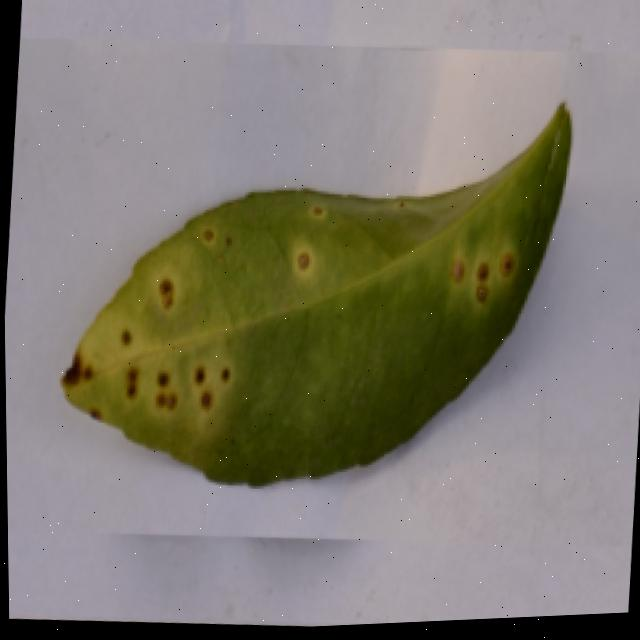canker: (65, 107, 567, 481), (52, 205, 254, 463), (434, 236, 529, 326), (272, 187, 343, 304)
